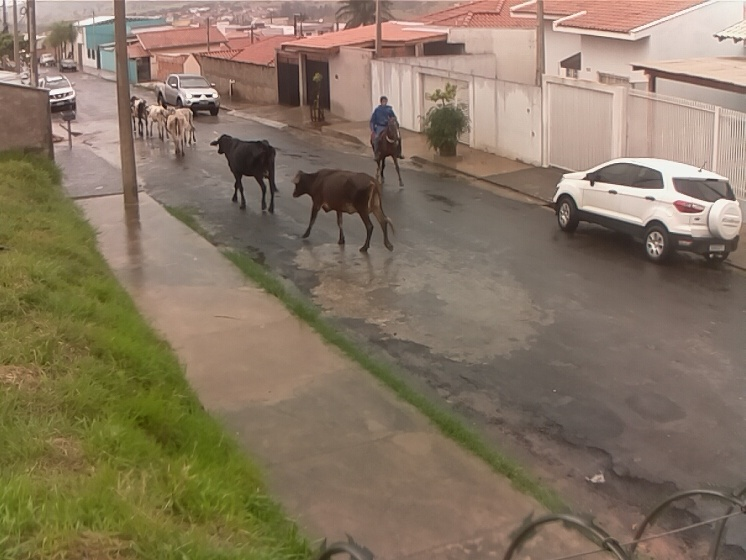person: (367, 94, 401, 162)
